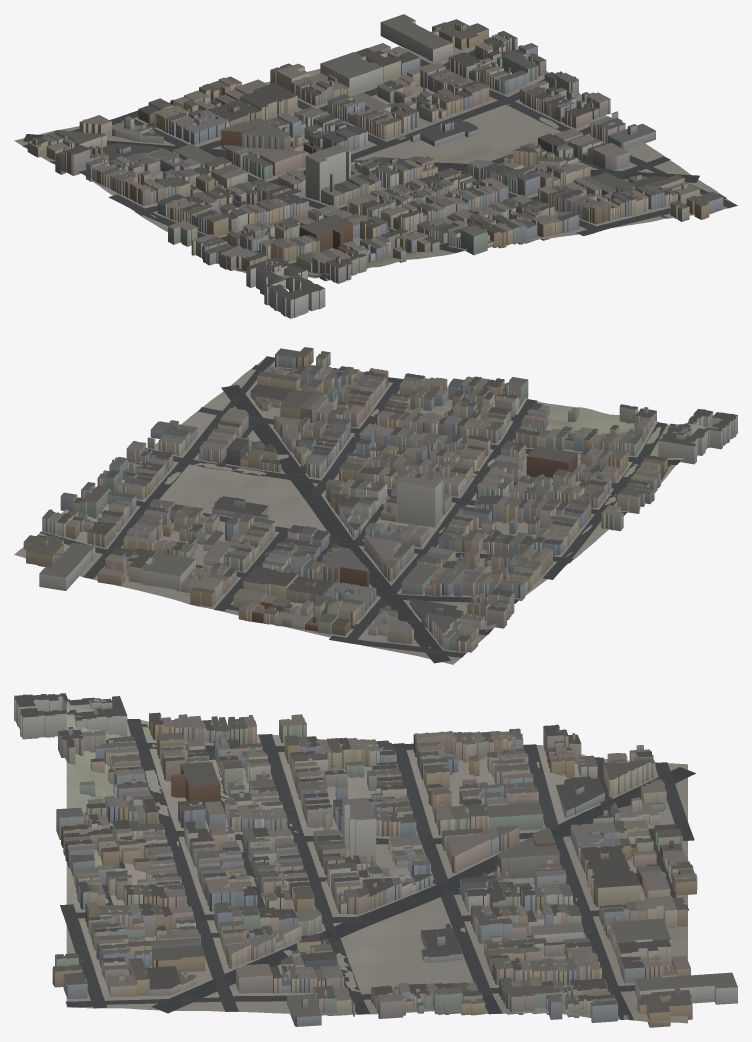
The picture shows the model from 3 angles, top to bottom: view 1: azimuth 30°, elevation 25°; view 2: azimuth 150°, elevation 25°; view 3: azimuth 270°, elevation 25°; orthographic projection. The views are drawn at different scales.
Visible parts, largest first — view 1: buildings, ground, roads; view 2: buildings, ground, roads; view 3: buildings, ground, roads.
Boxes of the visible parts, box(x1,y1,x2,y2) form: buildings: box(27, 14, 723, 318); ground: box(14, 36, 737, 280); roads: box(22, 49, 737, 277); buildings: box(23, 347, 737, 652); ground: box(14, 356, 706, 664); roads: box(37, 356, 680, 663); buildings: box(14, 693, 737, 1027); ground: box(66, 701, 687, 1023); roads: box(60, 719, 695, 1019).
Bounding box in the file's own units: 534 × 68 × 582.
